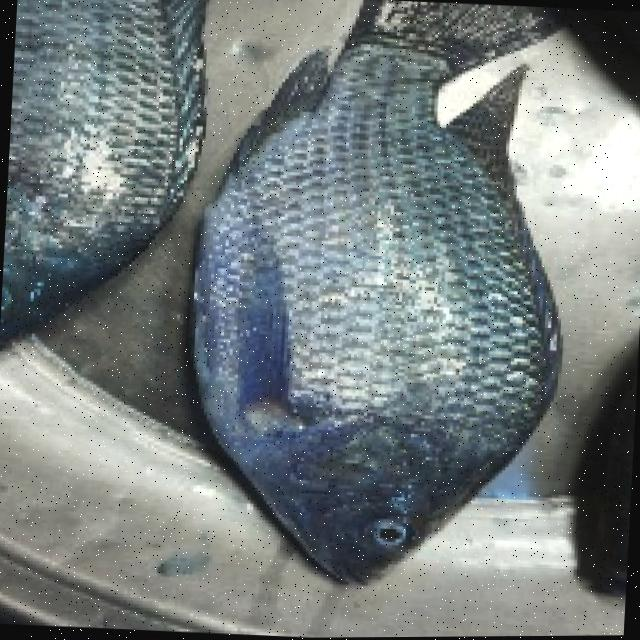Fresh: (174, 0, 567, 615)
